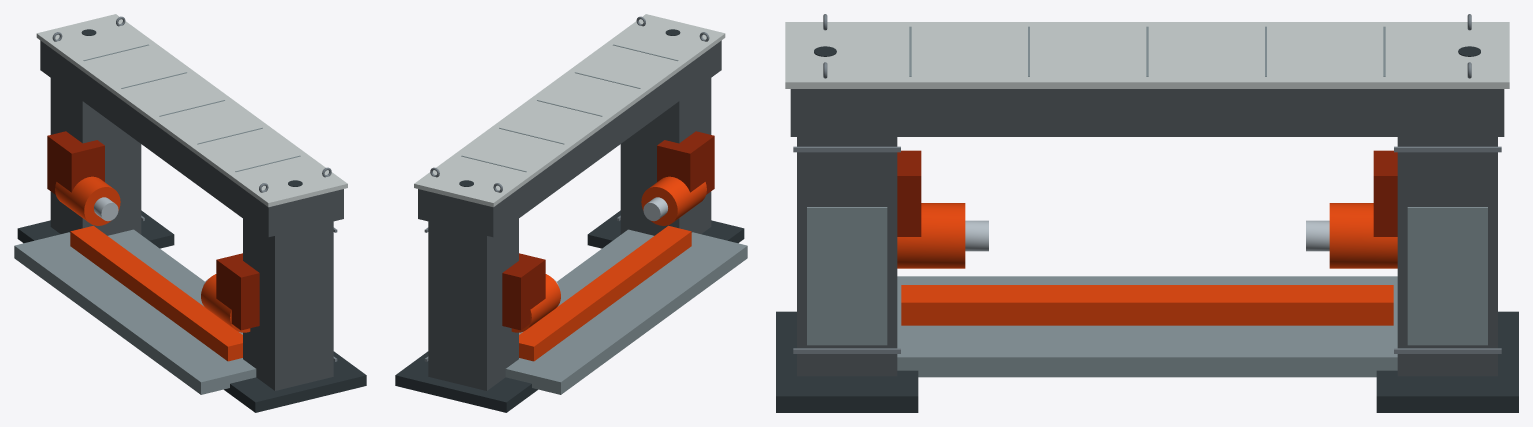
File: opening_portal.dae
3 renders of one model, left to right at view 1: azimuth 30°, elevation 25°; view 2: azimuth 150°, elevation 25°; view 3: azimuth 270°, elevation 25°, orthographic. The views are drawn at different scales.
Visible parts, largest first — view 1: opening_portal; view 2: opening_portal; view 3: opening_portal.
Boxes of the visible parts, <box> form: opening_portal: <box>14,14,366,412</box>; opening_portal: <box>395,14,747,412</box>; opening_portal: <box>776,14,1518,412</box>.
Bounding box in the file's own units: 1.39 × 4.07 × 2.01.
